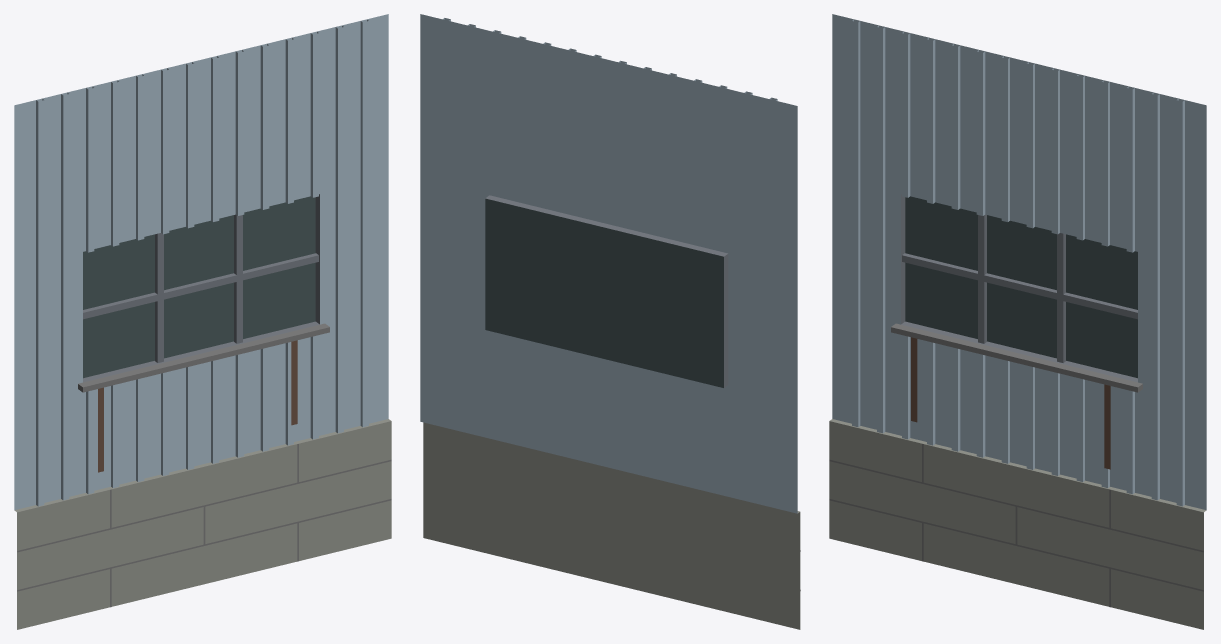
The model's file is base-w1_close.fbx.
The picture shows the model from 3 angles, left to right: view 1: azimuth 30°, elevation 25°; view 2: azimuth 150°, elevation 25°; view 3: azimuth 330°, elevation 25°; orthographic projection.
Parts seen in each view (by area): view 1: a2004/200/base-w1_close; view 2: a2004/200/base-w1_close; view 3: a2004/200/base-w1_close.
Boxes of the visible parts, bbox=[...] form: a2004/200/base-w1_close: bbox=[14, 14, 391, 629]; a2004/200/base-w1_close: bbox=[420, 14, 800, 629]; a2004/200/base-w1_close: bbox=[829, 14, 1206, 629].
Bounding box in the file's own units: 3 × 4 × 0.13.
